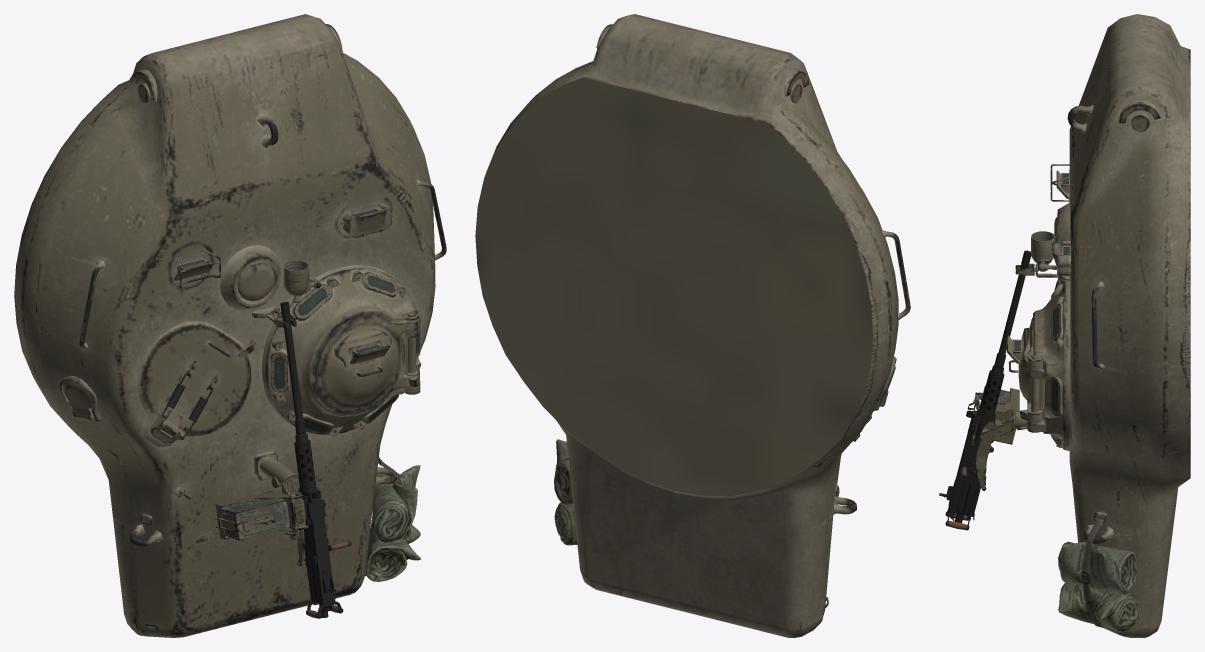
Rendered from Turret_02.glb.
3 renders of one model, left to right at view 1: azimuth 30°, elevation 25°; view 2: azimuth 150°, elevation 25°; view 3: azimuth 270°, elevation 25°, orthographic. The views are drawn at different scales.
Visible parts, largest first — view 1: set_0_group_0; view 2: set_0_group_0; view 3: set_0_group_0.
Part boxes in pixels (bbox=[...]): set_0_group_0: bbox=[14, 14, 446, 637]; set_0_group_0: bbox=[475, 14, 910, 637]; set_0_group_0: bbox=[939, 14, 1190, 637].
Size of the model in its own units: 2.38 by 3.21 by 1.35.
1 material, 1 textured.
